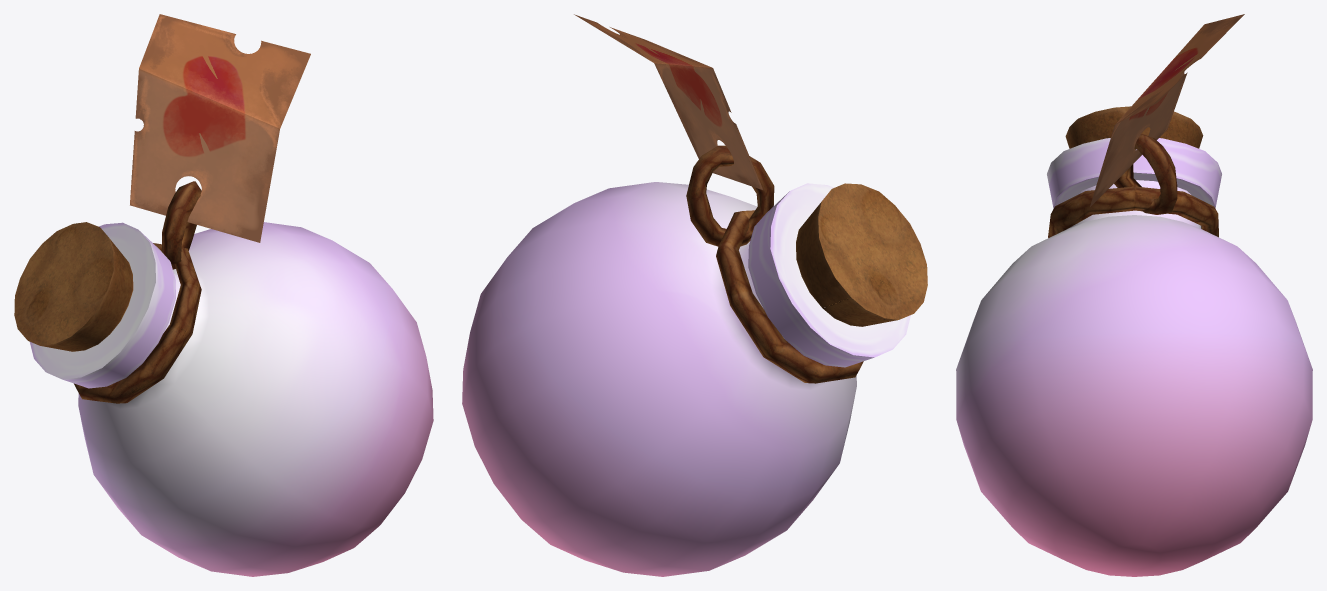
Rendered from downloadable_love_potion_gameready_asset.glb.
3 views of the same model, side by side, from view 1: azimuth 30°, elevation 25°; view 2: azimuth 150°, elevation 25°; view 3: azimuth 270°, elevation 25° (orthographic). The views are drawn at different scales.
Parts seen in each view (by area): view 1: botella_low, etiqueta_low, tapon_low, cuerda_low, lazo_low; view 2: botella_low, tapon_low, etiqueta_low, cuerda_low, lazo_low; view 3: botella_low, etiqueta_low, cuerda_low, tapon_low, lazo_low.
Part boxes in pixels (box(x1,y1,x2,y2)): botella_low: box(30, 222, 433, 576); etiqueta_low: box(130, 14, 310, 242); tapon_low: box(14, 222, 133, 351); cuerda_low: box(74, 243, 201, 403); lazo_low: box(162, 181, 201, 269); botella_low: box(462, 182, 910, 576); tapon_low: box(796, 183, 927, 326); etiqueta_low: box(574, 14, 763, 189); cuerda_low: box(716, 210, 863, 383); lazo_low: box(686, 145, 774, 246); botella_low: box(956, 138, 1312, 576); etiqueta_low: box(1090, 14, 1244, 206); cuerda_low: box(1048, 186, 1218, 237); tapon_low: box(1065, 106, 1203, 148); lazo_low: box(1114, 134, 1177, 214).
Size of the model in its own units: 26.2 by 33.83 by 20.85.
2 materials, 2 textured.
